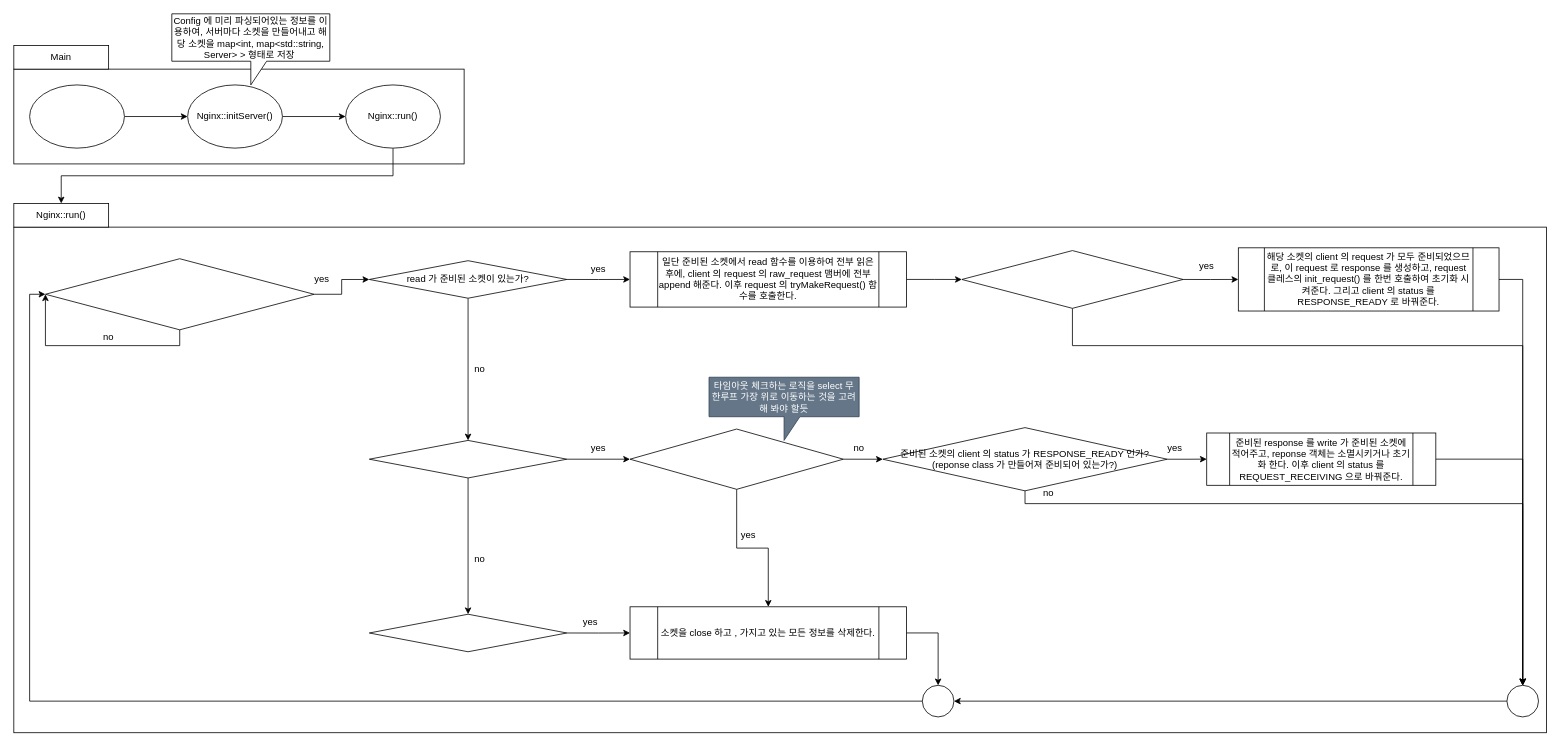
The diagram is 1560 pixels wide and 747 high, and some of its shapes have lost their labels. Here are the shapes that lost their labels. From the top down, the box of each, then its label:
(29, 84, 124, 148): Config::makeConfig()
(45, 258, 314, 330): 가지고 있는 소켓 중에 read 나 , write, error 가 준비된 소켓이 있는가?
(961, 250, 1183, 308): tryMakeRequest() 의 return 이 TRUE 인가? (request 로 부터 response 를 생성할 준비가 되었는가?)
(369, 440, 567, 478): write 가 준비된 소켓이 있는가?
(629, 428, 843, 489): 해당 소켓(client) 의 last_request_ms 를 체크 타임아웃 되었는가?
(369, 613, 567, 652): error 가 준비된 소켓이 있는가?
